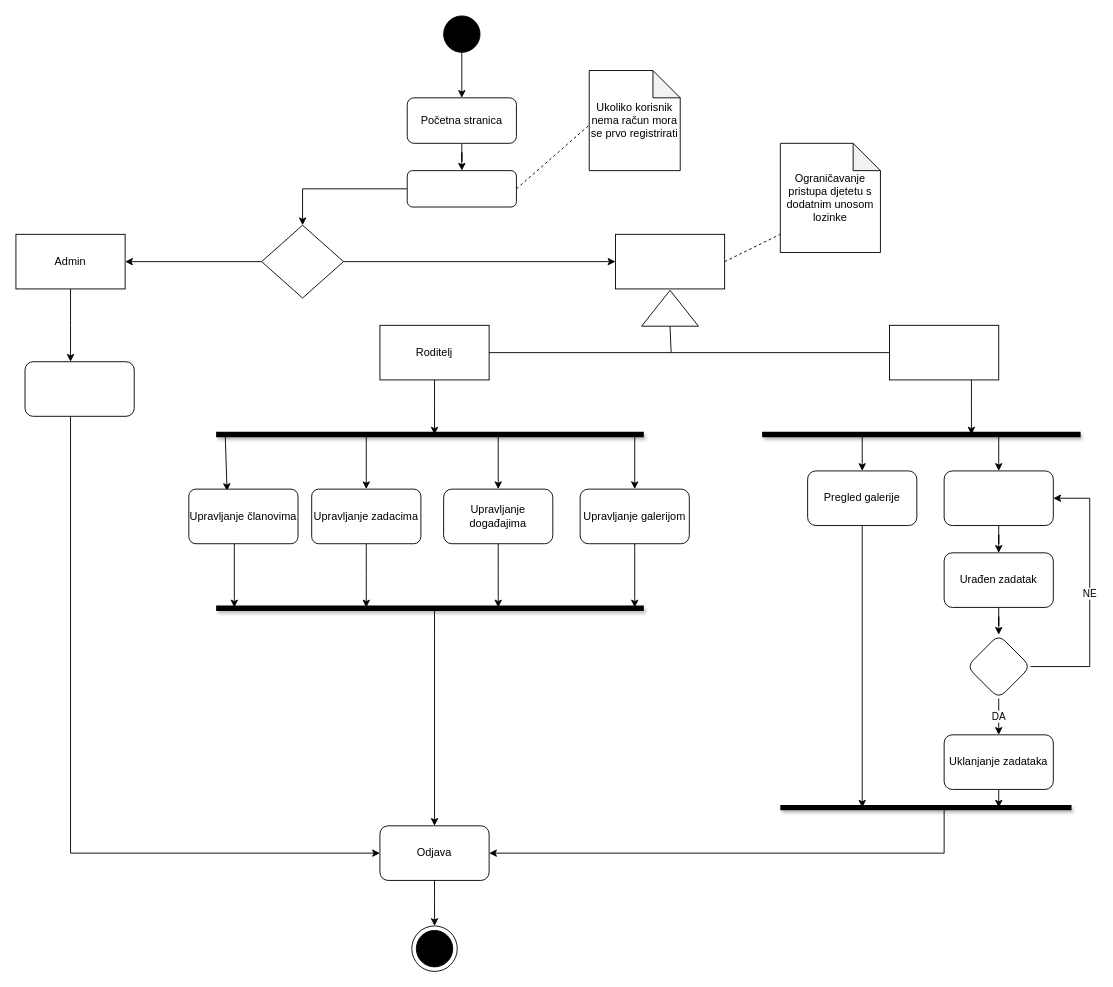
This 1113x987 diagram has some shape labels left out. The shapes that lost their labels are listed below. From the top down, each one's centre as x and y in pixels, then its label:
At point 461,188: "Login".
At point 302,261: "Tip korisnika".
At point 670,261: "Obitelj".
At point 944,352: "Dijete".
At point 79,388: "Upravljanje obiteljima".
At point 998,498: "Pregled zadataka".
